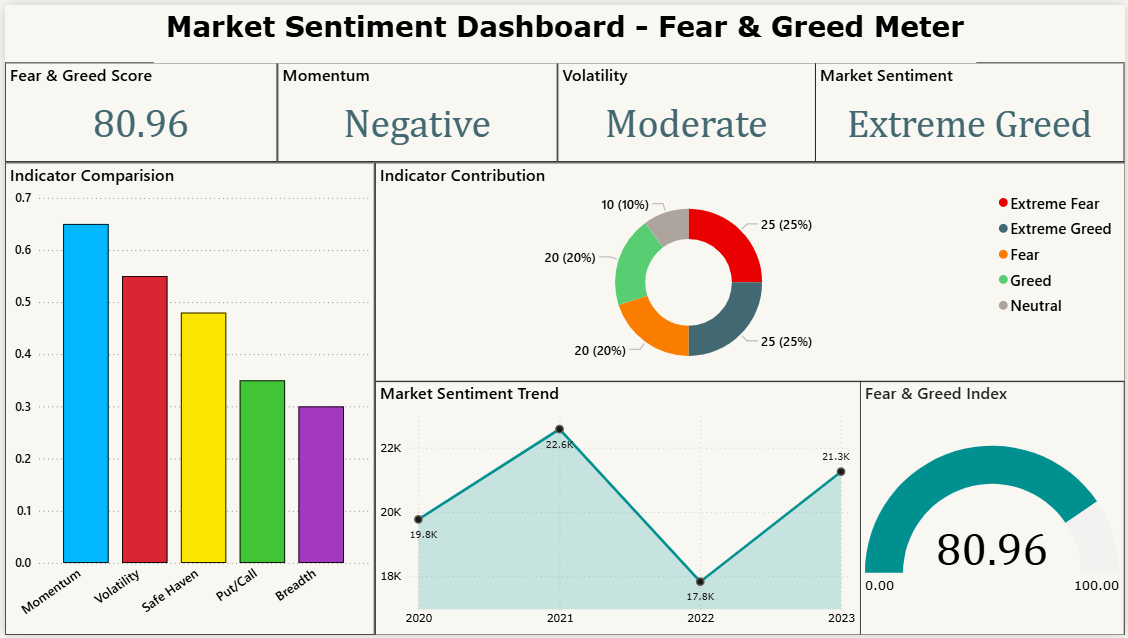

Layout of this report page (visuals, bound fields, positions):
{"tool":"powerbi","page":{"name":"Page 1","canvas":[1280,720],"ordinal":0},"visuals":[{"type":"card","title":"Fear & Greed Score","fields":{"Values":["fear_greed_index.Avg Score"]},"box":[0,66.2,311.2,113.8],"z":0},{"type":"card","title":"Market Sentiment","fields":{"Values":["fear_greed_index.Sentiment"]},"box":[926.2,66.2,353.8,113.8],"z":1000},{"type":"card","title":"Volatility","fields":{"Values":["fear_greed_index.Volatility Status"]},"box":[631.2,66.2,295,113.8],"z":2000},{"type":"card","title":"Momentum","fields":{"Values":["fear_greed_index.Momentum Status"]},"box":[311.2,66.2,320,113.8],"z":3000},{"type":"donutChart","title":"Indicator Contribution","fields":{"Category":["Gauge_Ranges.Category"],"Y":["Sum(Gauge_Ranges.Value)"]},"box":[422.5,180,857.5,250],"z":4000},{"type":"lineChart","title":" Market Sentiment Trend","fields":{"Category":["fear_greed_index.Date.Variation.Date Hierarchy.Year","fear_greed_index.Date.Variation.Date Hierarchy.Quarter","fear_greed_index.Date.Variation.Date Hierarchy.Month","fear_greed_index.Date.Variation.Date Hierarchy.Day"],"Y":["Sum(fear_greed_index.Fear_Greed_Index)"]},"box":[422.5,430,555,290],"z":5000},{"type":"clusteredColumnChart","title":" Indicator Comparision","fields":{"Category":["Indicator Table.Indicator"],"Y":["Sum(Indicator Table.Value)"]},"box":[0,180,422.5,540],"z":6000},{"type":"gauge","title":"Fear & Greed Index","fields":{"Y":["fear_greed_index.Avg Score"]},"box":[977.5,430,302.5,290],"z":7000},{"type":"textbox","box":[170,0,940,66.2],"z":8000}]}

Visuals, with their boxes in screenshot pixels (x1, y1, x2, y2), scaled from the page's 1280x720 canvas onto the 1128x638 screenshot:
"Fear & Greed Score" card: (x1=0, y1=59, x2=274, y2=160)
"Market Sentiment" card: (x1=816, y1=59, x2=1127, y2=160)
"Volatility" card: (x1=556, y1=59, x2=816, y2=160)
"Momentum" card: (x1=274, y1=59, x2=556, y2=160)
"Indicator Contribution" donutChart: (x1=372, y1=160, x2=1127, y2=381)
" Market Sentiment Trend" lineChart: (x1=372, y1=381, x2=861, y2=637)
" Indicator Comparision" clusteredColumnChart: (x1=0, y1=160, x2=372, y2=637)
"Fear & Greed Index" gauge: (x1=861, y1=381, x2=1127, y2=637)
textbox: (x1=150, y1=0, x2=978, y2=59)
